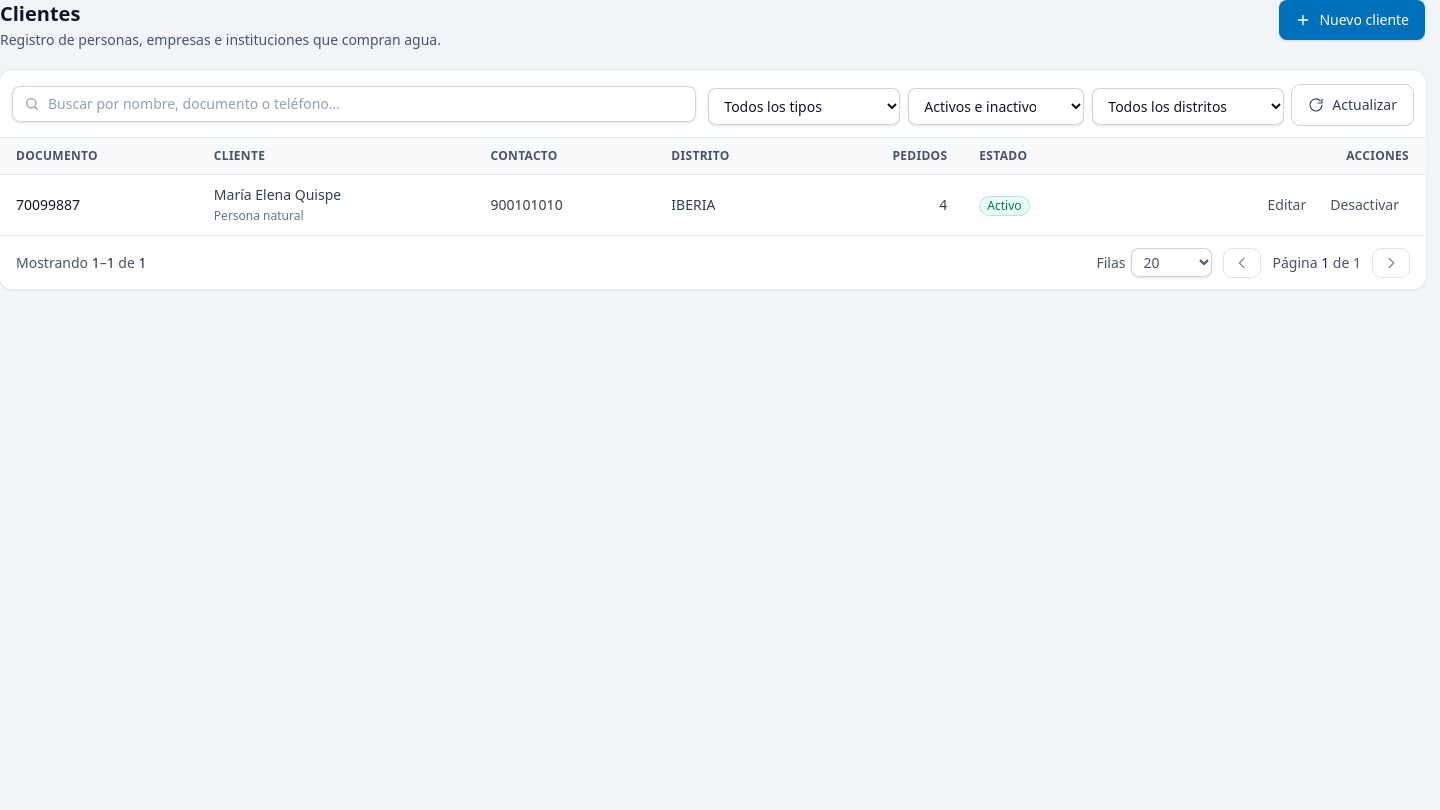
edición y cambio de estado › el formulario de edición se rellena con los datos del cliente
This screenshot has width=1440, height=810.
Step 1. Click the button "Editar" → (1287, 205), box [1258,189,1316,221]
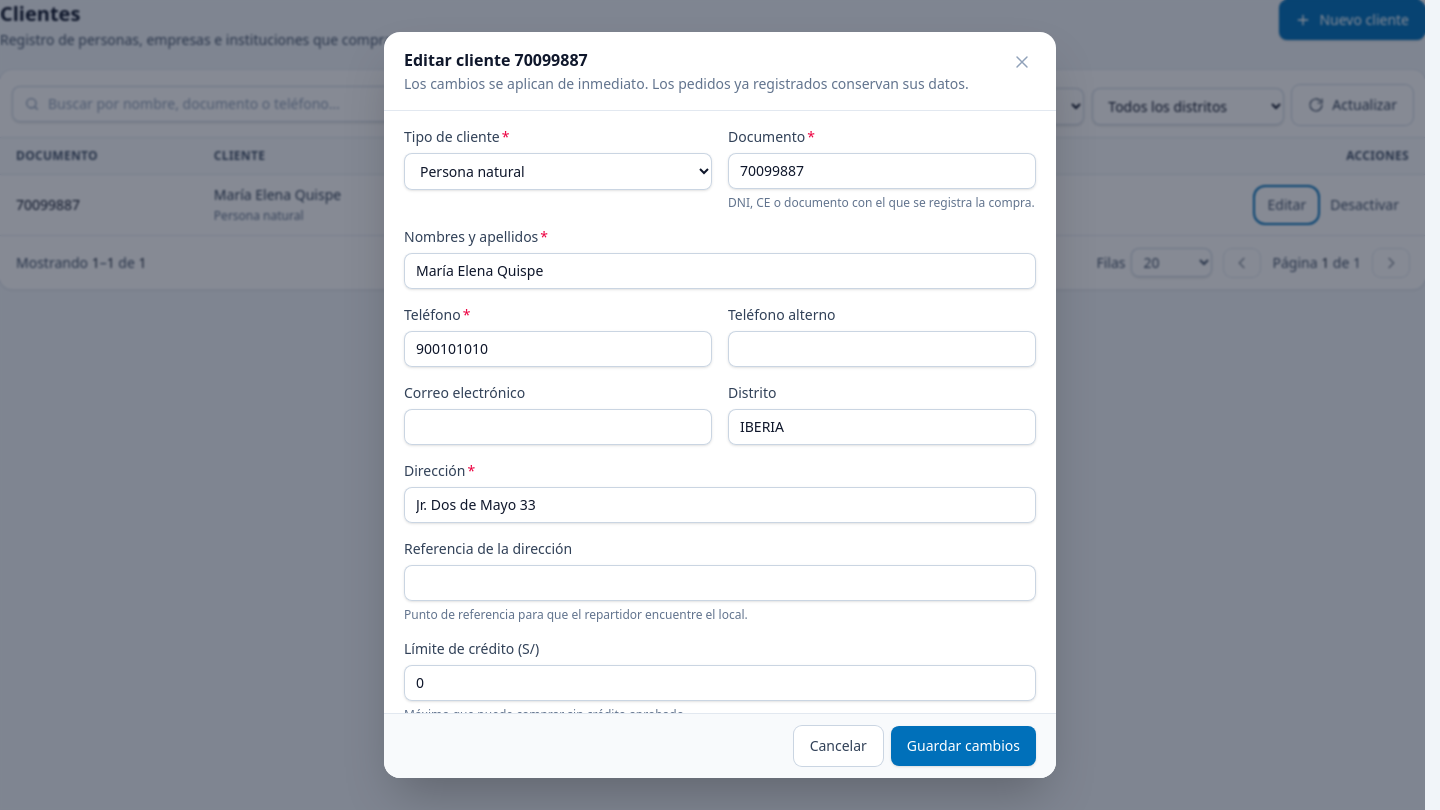
Result: the field labelled "Documento*" holds "70099887" at [728,153,1036,189]
Result: the field labelled "Nombres y apellidos*" holds "María Elena Quispe" at [404,253,1036,289]
Result: the field labelled "Teléfono*" holds "900101010" at [404,331,712,367]
